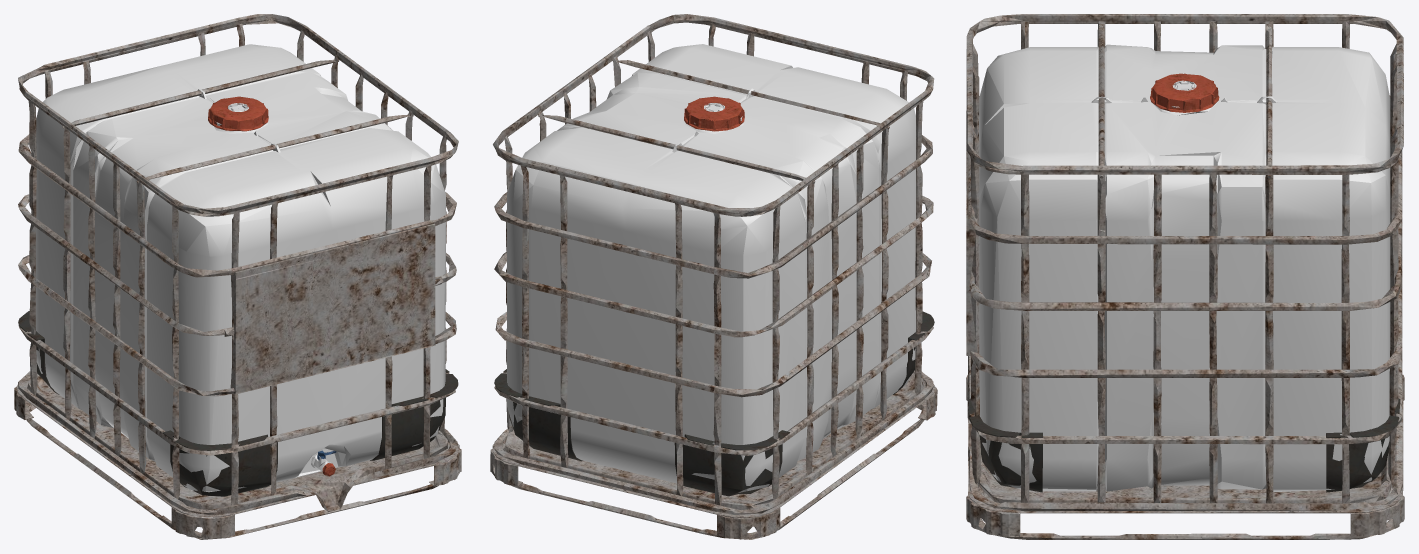
Rendered from dock_ibc_tank.glb.
3 views of the same model, side by side, from view 1: azimuth 30°, elevation 25°; view 2: azimuth 150°, elevation 25°; view 3: azimuth 270°, elevation 25° (orthographic). The views are drawn at different scales.
Parts seen in each view (by area): view 1: dock_ibc_tank; view 2: dock_ibc_tank; view 3: dock_ibc_tank.
Boxes of the visible parts, x1,y1,x2,y2 form: dock_ibc_tank: (14,14,461,539); dock_ibc_tank: (490,14,937,539); dock_ibc_tank: (966,14,1404,539).
Size of the model in its own units: 1.05 by 1.2 by 1.25.
5 materials, 4 textured.
